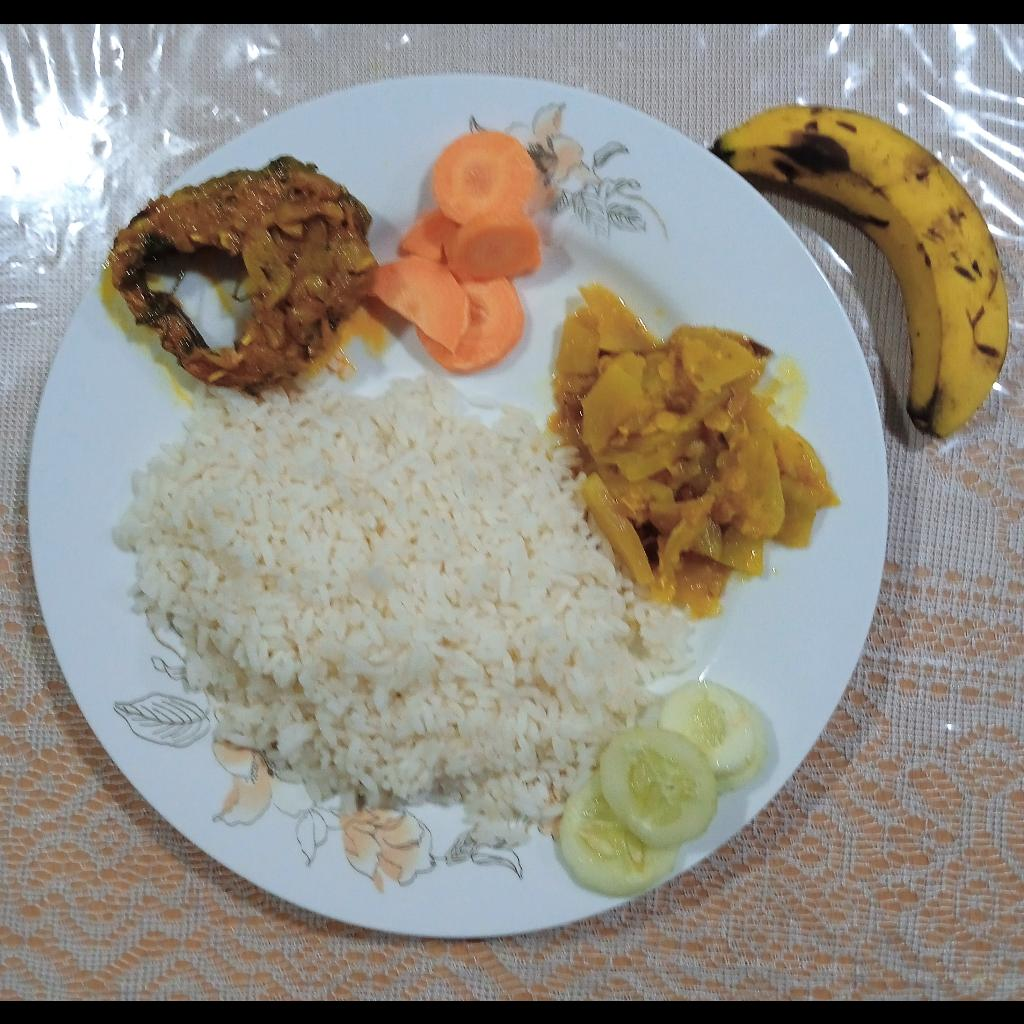banana: (714, 103, 1005, 438)
carrot: (366, 133, 540, 374)
cucumber: (557, 680, 766, 899)
fish: (112, 157, 376, 388)
lau: (551, 278, 842, 616)
rice: (114, 374, 691, 846)
